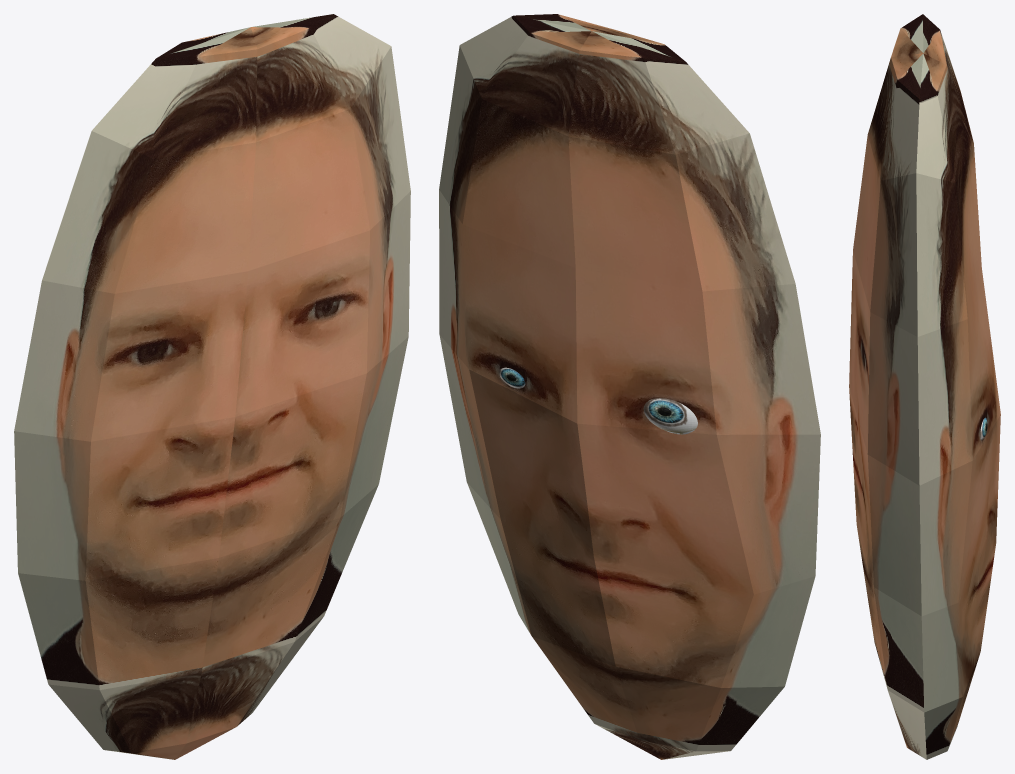
File: avatar.glb
The picture shows the model from 3 angles, left to right: view 1: azimuth 30°, elevation 25°; view 2: azimuth 150°, elevation 25°; view 3: azimuth 270°, elevation 25°; orthographic projection. The views are drawn at different scales.
Parts seen in each view (by area): view 1: Sphere; view 2: Sphere, auge_links; view 3: Sphere.
Boxes of the visible parts, x1,y1,x2,y2 form: Sphere: [14, 14, 410, 759]; Sphere: [439, 14, 820, 759]; auge_links: [643, 398, 697, 434]; Sphere: [849, 14, 1000, 759].
Size of the model in its own units: 2.49 by 4.36 by 0.8169.
Materials: 3 (3 with a texture image).
